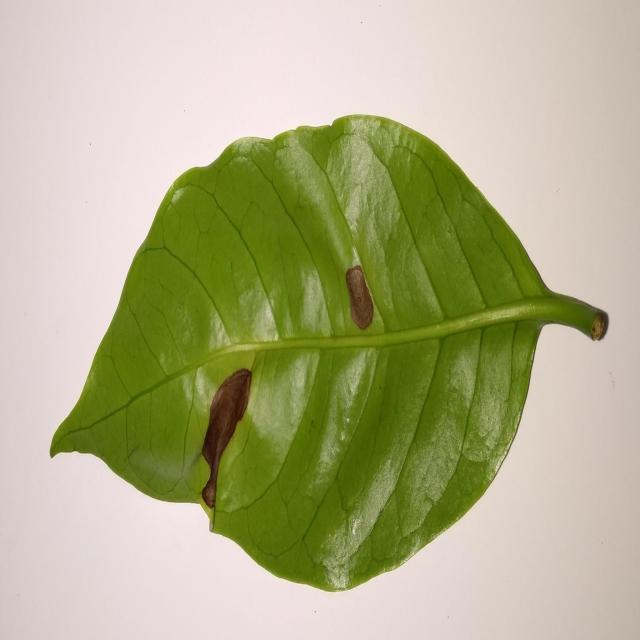Enfermedad-Antracnosis: (48, 115, 610, 596)
